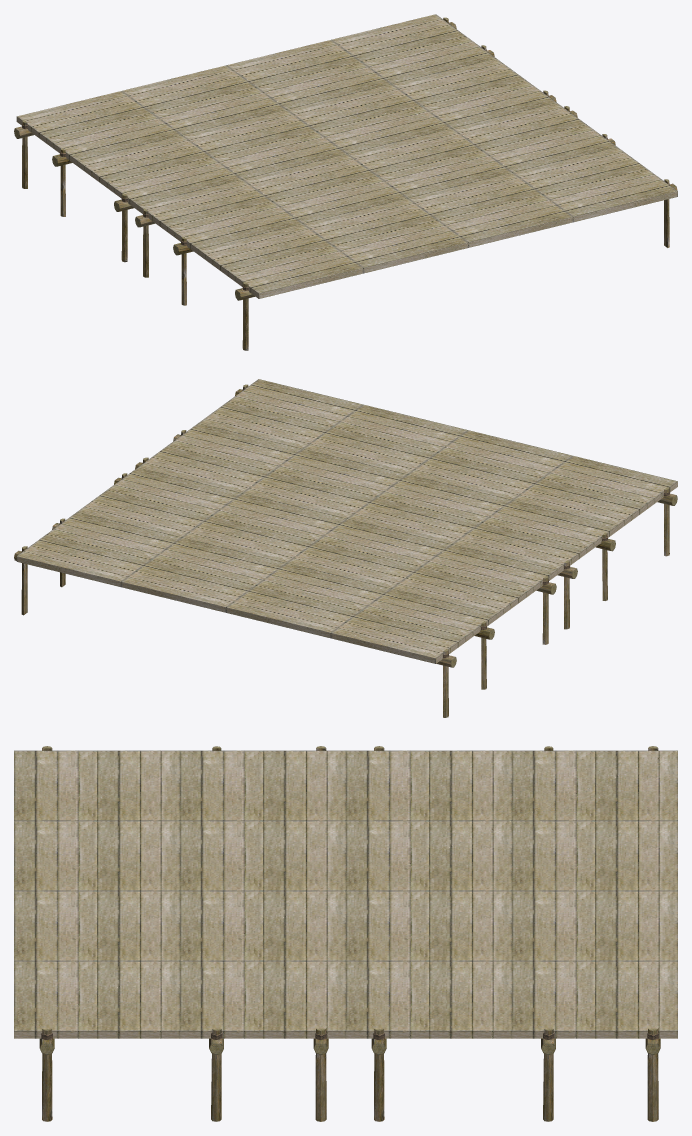
Rendered from thm_endr_lakevillage_lake_hut_pc1_l0.fbx.
3 views of the same model, one above another, from view 1: azimuth 30°, elevation 25°; view 2: azimuth 150°, elevation 25°; view 3: azimuth 270°, elevation 25° (orthographic). The views are drawn at different scales.
Visible parts, largest first — view 1: mesh_node; view 2: mesh_node; view 3: mesh_node.
Boxes of the visible parts, x1,y1,x2,y2 form: mesh_node: (14, 14, 677, 350); mesh_node: (14, 379, 677, 717); mesh_node: (14, 746, 677, 1121).
Bounding box in the file's own units: 16.68 × 2.41 × 16.
